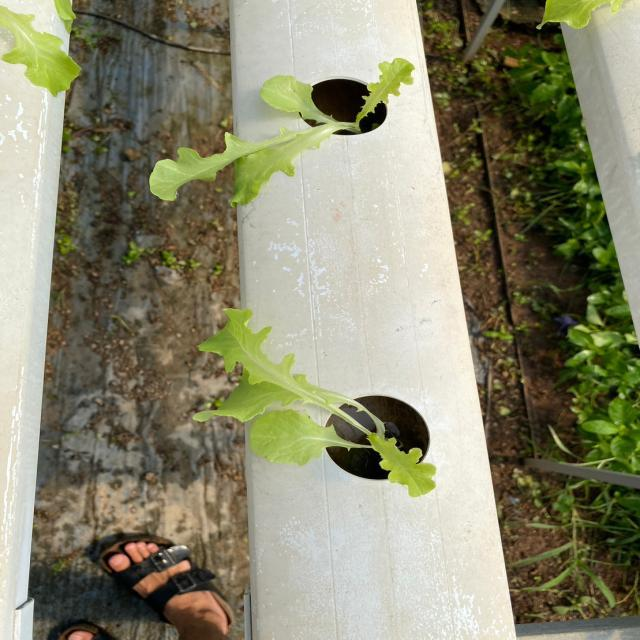Lettuce-Not-Ready-to-Harvest: (191, 308, 443, 501), (147, 54, 413, 210)
